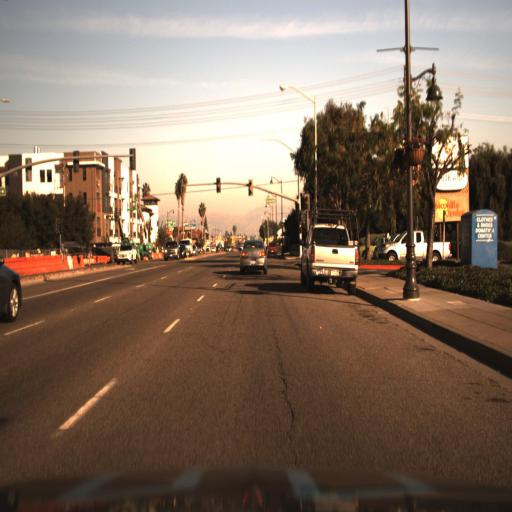car: (296, 214, 361, 298), (376, 221, 458, 271), (0, 224, 30, 352), (238, 233, 271, 272), (115, 241, 140, 266), (162, 238, 180, 265)
trafficLight-Yellow: (214, 175, 223, 197), (246, 180, 255, 202), (302, 195, 310, 208)
